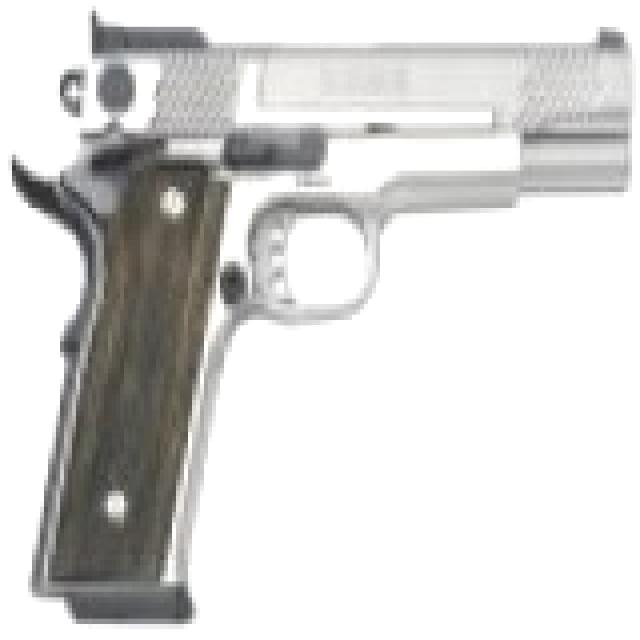pistol: (28, 16, 636, 613)
